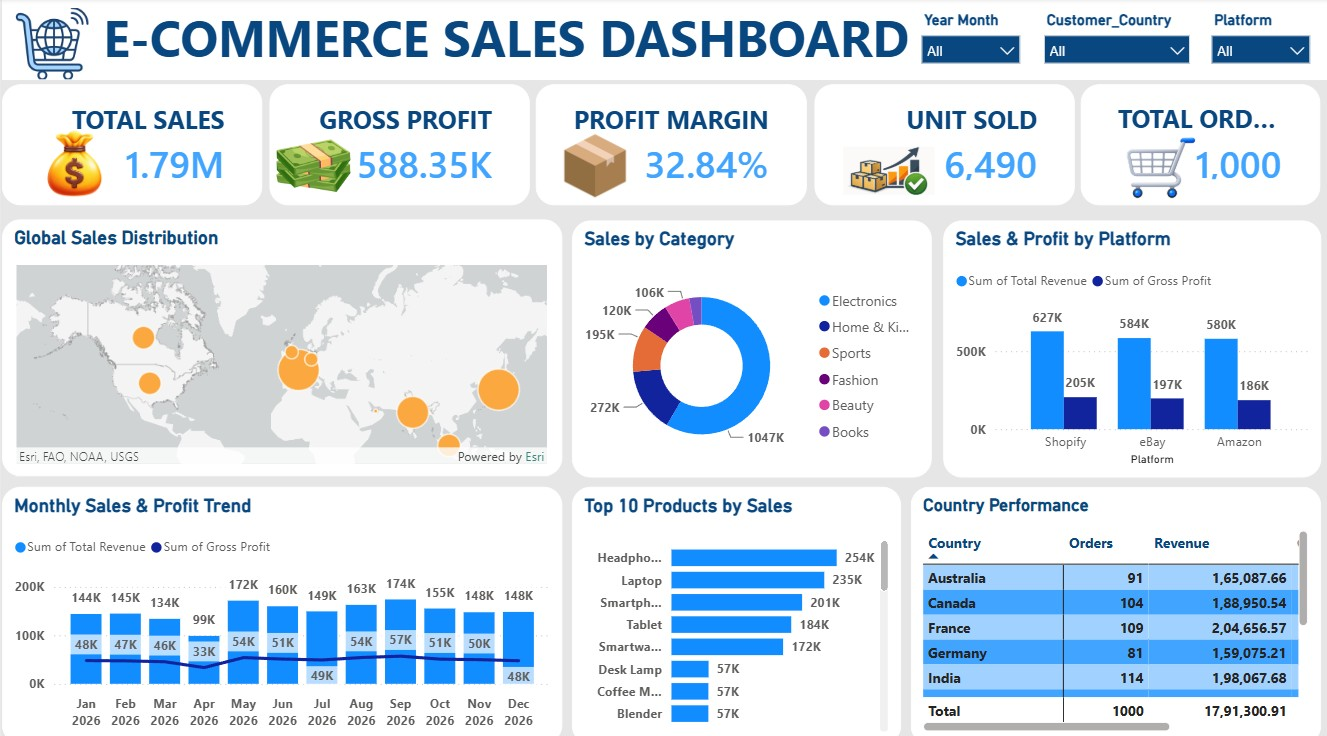

The dashboard page shown, as its layout file describes it:
{"tool":"powerbi","page":{"name":"Page 1","canvas":[1280,720],"ordinal":0},"visuals":[{"type":"textbox","box":[0,0,1280,79],"z":0},{"type":"image","box":[0,9.7,96.5,68.8],"z":1000},{"type":"cardVisual","fields":{"Data":["Ecom_Sales_Data.Total Sales"]},"box":[0,83.2,251,117],"z":2000},{"type":"cardVisual","fields":{"Data":["Ecom_Sales_Data.Gross Profit KPI"]},"box":[257.7,83.2,251,117],"z":3000},{"type":"cardVisual","fields":{"Data":["Ecom_Sales_Data.Profit Margin %"]},"box":[515.4,83.2,261.8,117],"z":4000},{"type":"cardVisual","fields":{"Data":["Ecom_Sales_Data.Unit Sold Disply"]},"box":[784,83.2,251,117],"z":5000},{"type":"cardVisual","fields":{"Data":["Ecom_Sales_Data.Total Orders Disply"]},"box":[1041.7,83.7,230.8,116.9],"z":6000},{"type":"image","box":[14.4,125.5,111.1,70.7],"z":7000},{"type":"image","box":[811.9,131.5,88.1,70],"z":9000},{"type":"image","box":[1055.6,131.5,125.5,65.1],"z":10000},{"type":"esriVisual","title":"Global Sales Distribution","fields":{"Location":["Ecom_Sales_Data.Customer_Country"],"Size":["Sum(Ecom_Sales_Data.Total Revenue)"]},"box":[0,213.5,541,248],"z":11000},{"type":"donutChart","title":"Sales by Category","fields":{"Category":["Ecom_Sales_Data.Product_Category"],"Y":["Sum(Ecom_Sales_Data.Total Revenue)"]},"box":[549.7,215,347,248.2],"z":12000},{"type":"clusteredColumnChart","title":"Sales & Profit by Platform","fields":{"Category":["Ecom_Sales_Data.Platform"],"Y":["Sum(Ecom_Sales_Data.Total Revenue)","Sum(Ecom_Sales_Data.Gross Profit)"]},"box":[908.9,215,365,248],"z":13000},{"type":"lineStackedColumnComboChart","title":"Monthly Sales & Profit Trend","fields":{"Category":["Calendar.Year Month"],"Y":["Sum(Ecom_Sales_Data.Total Revenue)"],"Y2":["Sum(Ecom_Sales_Data.Gross Profit)"]},"box":[0,472,541,248],"z":14000},{"type":"barChart","title":"Top 10 Products by Sales","fields":{"Category":["Ecom_Sales_Data.Product_Name"],"Y":["Sum(Ecom_Sales_Data.Total Revenue)"]},"box":[550.1,471.7,317.3,248.5],"z":14001},{"type":"pivotTable","title":"Country Performance","fields":{"Rows":["Ecom_Sales_Data.Customer_Country"],"Values":["Ecom_Sales_Data.Total Orders","Sum(Ecom_Sales_Data.Total Revenue)","Sum(Ecom_Sales_Data.Gross Profit)"]},"box":[877.1,471.7,395.7,248.5],"z":14002},{"type":"slicer","fields":{"Values":["Calendar.Year Month"]},"box":[877.2,7.2,115.4,62],"z":14003},{"type":"slicer","fields":{"Values":["Ecom_Sales_Data.Customer_Country"]},"box":[995.5,7.2,161.6,62],"z":14004},{"type":"slicer","fields":{"Values":["Ecom_Sales_Data.Platform"]},"box":[1157.1,7.2,115.4,62],"z":14005},{"type":"image","box":[258.3,116.9,85.1,89.5],"z":14006},{"type":"image","box":[530.9,131.3,83.7,60.6],"z":14007}]}

Visuals, with their boxes in screenshot pixels (x1, y1, x2, y2), scaled from the page's 1280x720 canvas onto the 1327x736 screenshot:
textbox: locate(0, 0, 1326, 81)
image: locate(0, 10, 100, 80)
cardVisual - Ecom_Sales_Data.Total Sales: locate(0, 85, 260, 205)
cardVisual - Ecom_Sales_Data.Gross Profit KPI: locate(267, 85, 527, 205)
cardVisual - Ecom_Sales_Data.Profit Margin %: locate(534, 85, 806, 205)
cardVisual - Ecom_Sales_Data.Unit Sold Disply: locate(813, 85, 1073, 205)
cardVisual - Ecom_Sales_Data.Total Orders Disply: locate(1080, 86, 1319, 205)
image: locate(15, 128, 130, 201)
image: locate(842, 134, 933, 206)
image: locate(1094, 134, 1224, 201)
"Global Sales Distribution" esriVisual: locate(0, 218, 561, 472)
"Sales by Category" donutChart: locate(570, 220, 930, 473)
"Sales & Profit by Platform" clusteredColumnChart: locate(942, 220, 1321, 473)
"Monthly Sales & Profit Trend" lineStackedColumnComboChart: locate(0, 482, 561, 735)
"Top 10 Products by Sales" barChart: locate(570, 482, 899, 735)
"Country Performance" pivotTable: locate(909, 482, 1320, 735)
slicer - Calendar.Year Month: locate(909, 7, 1029, 71)
slicer - Ecom_Sales_Data.Customer_Country: locate(1032, 7, 1200, 71)
slicer - Ecom_Sales_Data.Platform: locate(1200, 7, 1319, 71)
image: locate(268, 119, 356, 211)
image: locate(550, 134, 637, 196)
